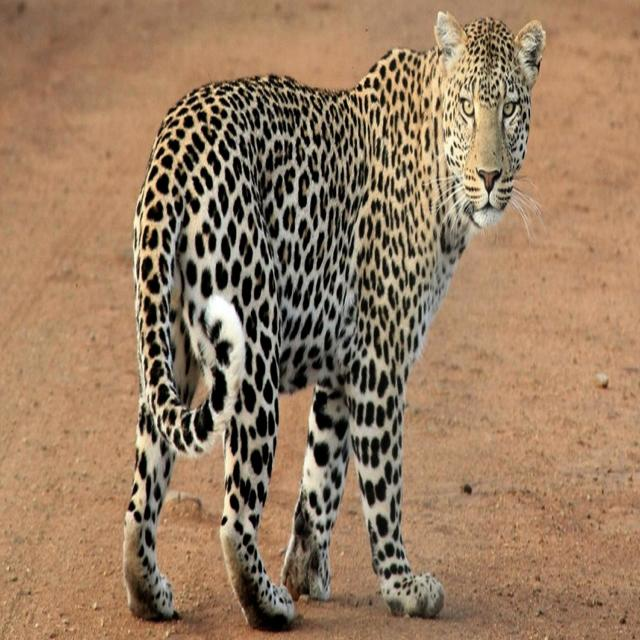leopard: (123, 12, 546, 630)
